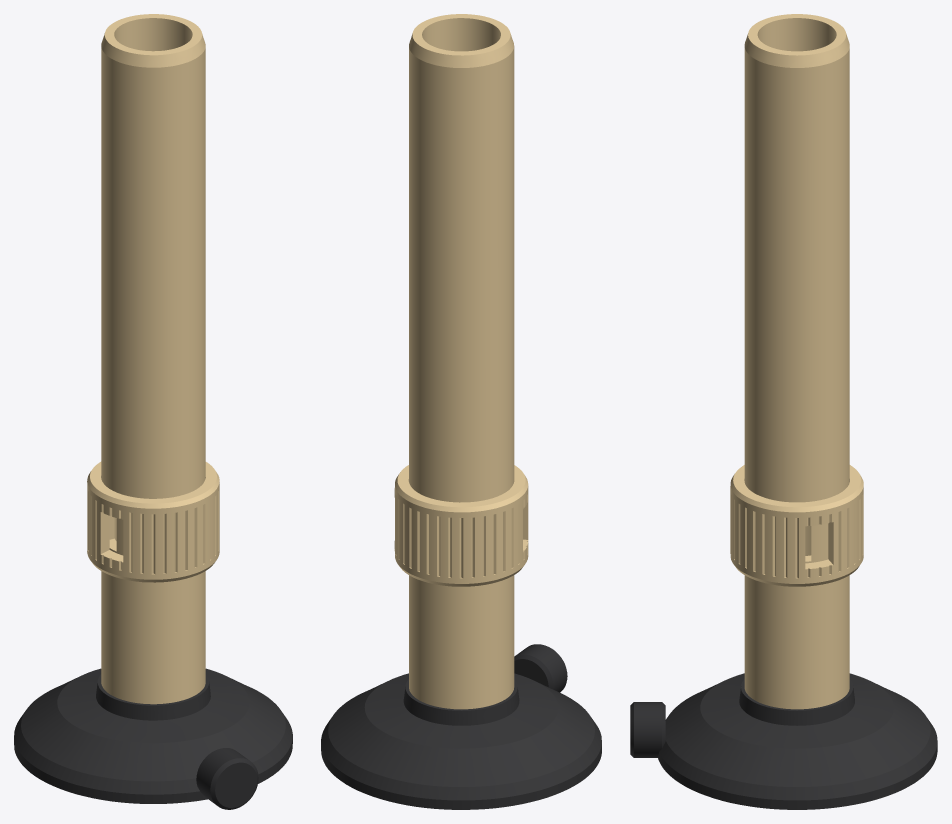
File: burner.glb
3 views of the same model, side by side, from view 1: azimuth 30°, elevation 25°; view 2: azimuth 150°, elevation 25°; view 3: azimuth 270°, elevation 25° (orthographic).
Visible parts, largest first — view 1: burner; view 2: burner; view 3: burner.
Boxes of the visible parts, bbox=[...] form: burner: bbox=[14, 14, 292, 809]; burner: bbox=[321, 14, 601, 809]; burner: bbox=[630, 14, 937, 809].
Bounding box in the file's own units: 31.99 × 90.59 × 35.
